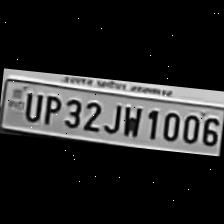0: (158, 106, 182, 142), (179, 108, 201, 144)
1: (140, 104, 162, 140)
2: (80, 94, 104, 132)
3: (60, 92, 82, 128)
6: (198, 112, 220, 148)
J: (101, 98, 122, 134)
P: (40, 90, 62, 125)
U: (20, 87, 42, 122)
W: (118, 100, 144, 138)
